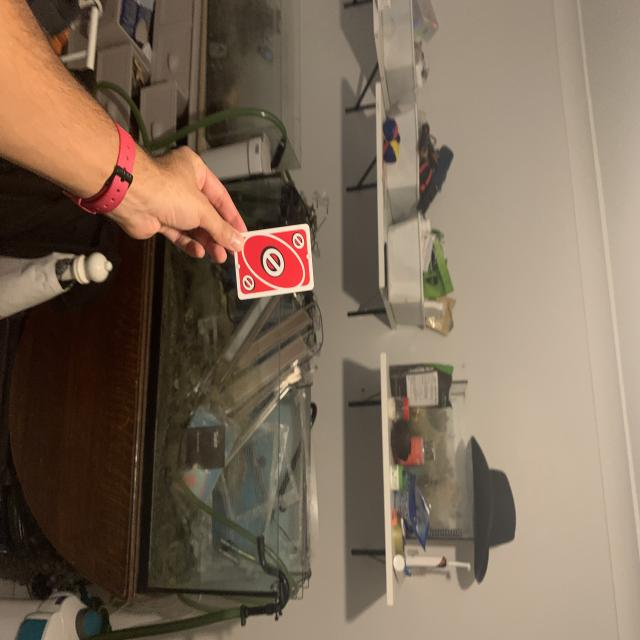lredskip-20: (288, 230, 308, 253)
